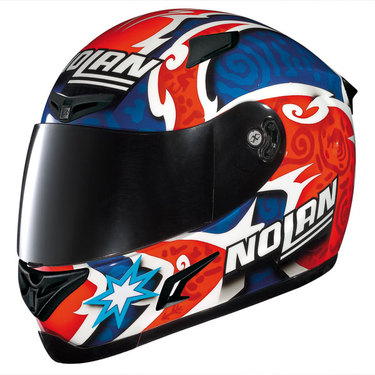helmet: (34, 17, 347, 320)
